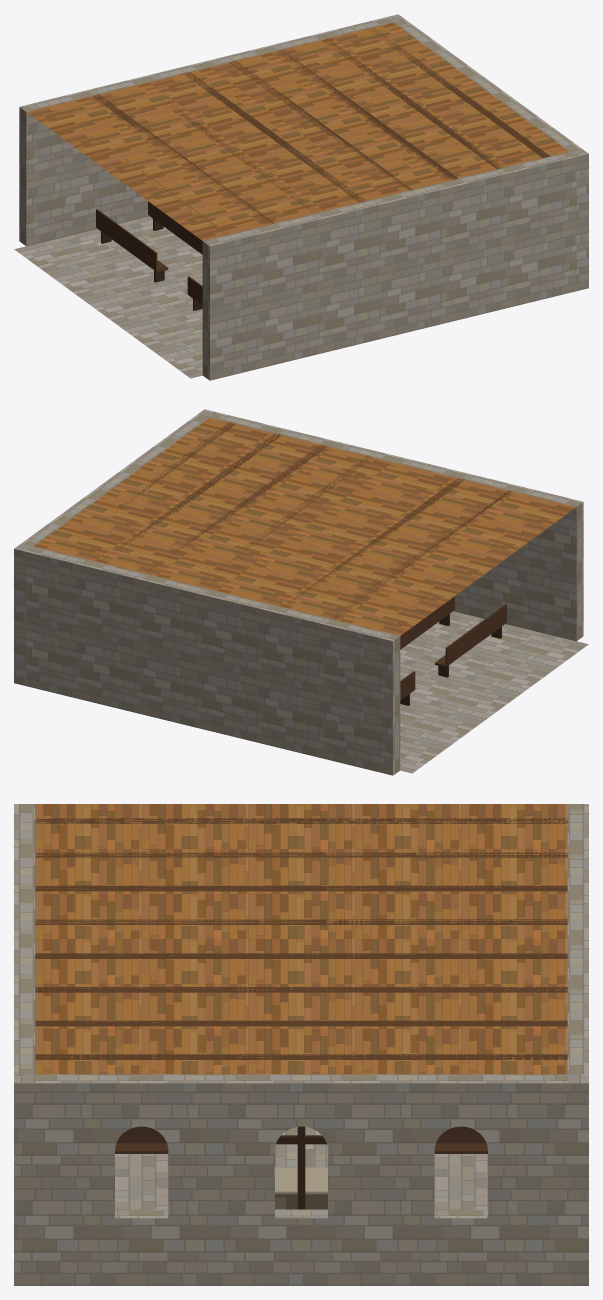
Rendered from capilla.glb.
3 views of the same model, one above another, from view 1: azimuth 30°, elevation 25°; view 2: azimuth 150°, elevation 25°; view 3: azimuth 270°, elevation 25° (orthographic). The views are drawn at different scales.
Parts seen in each view (by area): view 1: capilla-0, capilla-1, capilla-2; view 2: capilla-0, capilla-1, capilla-2; view 3: capilla-1, capilla-0, capilla-2.
Boxes of the visible parts, <box> form: capilla-0: <box>14,14,588,380</box>; capilla-1: <box>27,22,569,240</box>; capilla-2: <box>84,27,549,310</box>; capilla-0: <box>14,409,588,775</box>; capilla-1: <box>33,417,575,635</box>; capilla-2: <box>77,422,550,705</box>; capilla-1: <box>35,804,567,1074</box>; capilla-0: <box>14,804,588,1285</box>; capilla-2: <box>35,818,567,1209</box>.
Bounding box in the file's own units: 12.8 × 4.2 × 10.8.
Materials: 4 (2 with a texture image).
